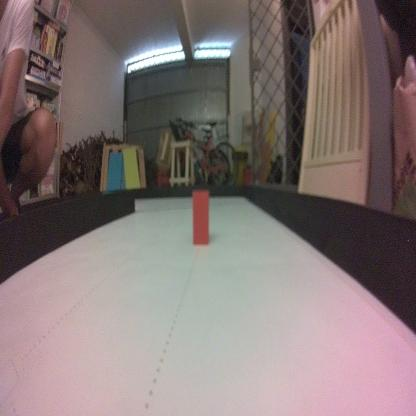red: (190, 189, 211, 246)
